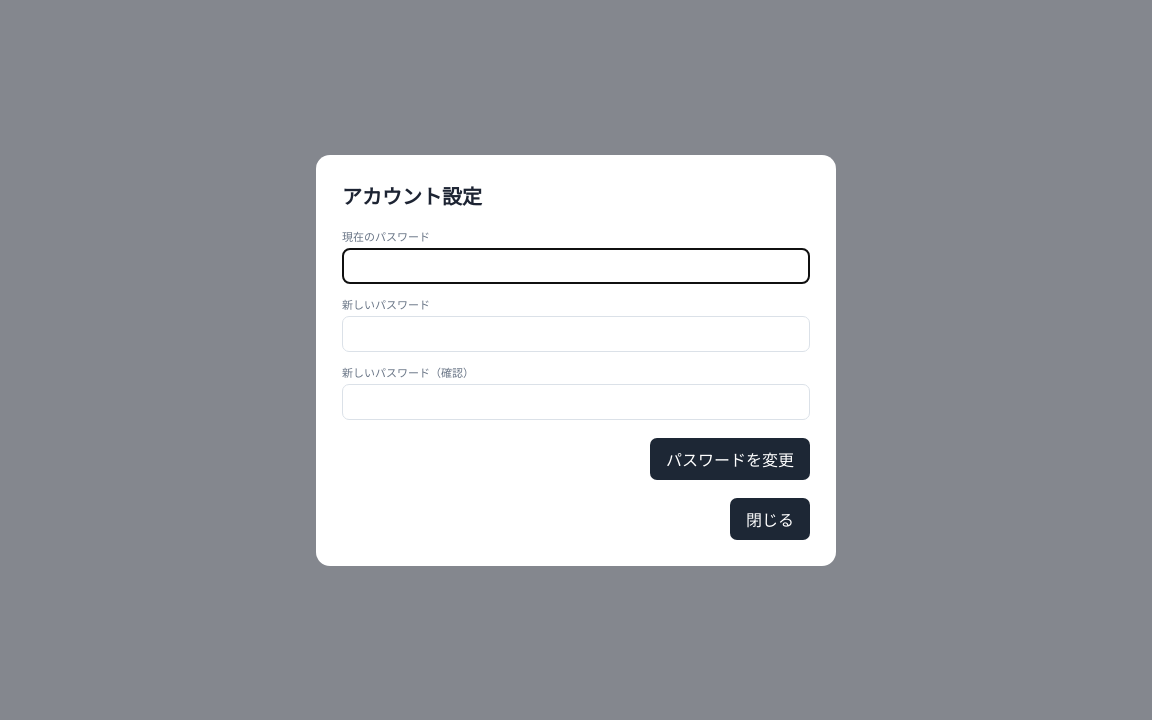
Test: AccountPanel › changes the password and shows the server's confirmation message
The image size is (1152, 720).
Type "old-pass" into the password field labelled "現在のパスワード" at {"x": 576, "y": 266}, box [342, 248, 810, 284]
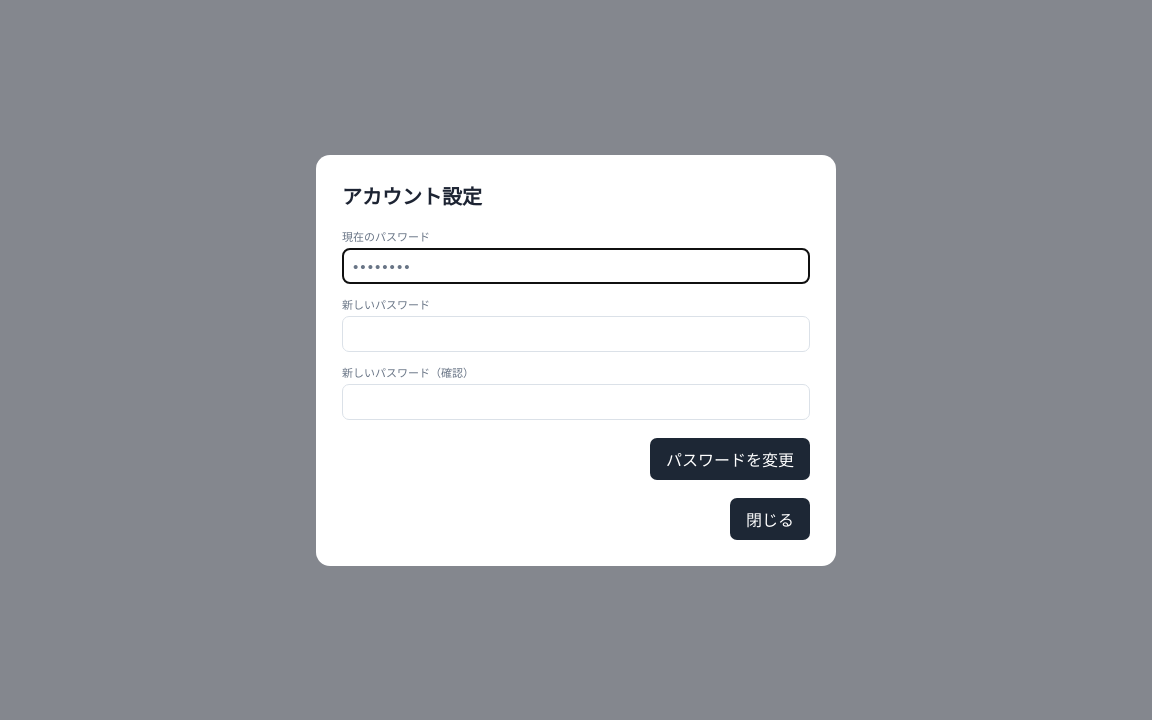
Type "new-pass" into the password field labelled "新しいパスワード" at {"x": 576, "y": 334}, box [342, 316, 810, 352]
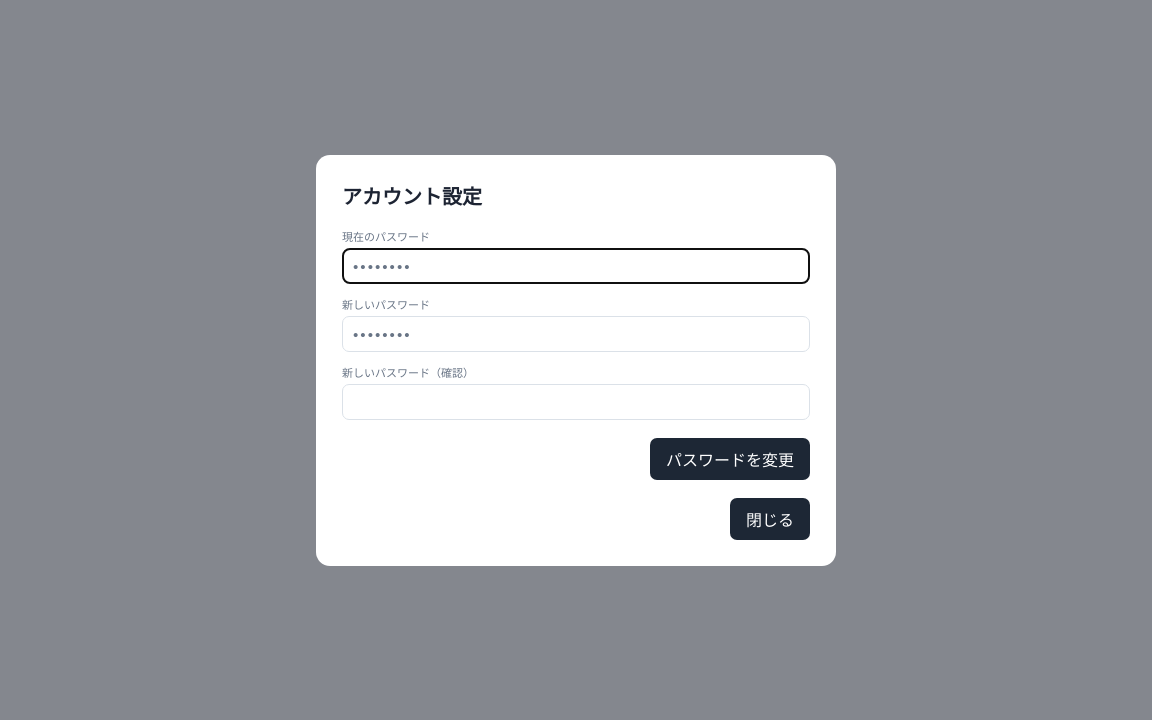
Type "new-pass" into the password field labelled "新しいパスワード（確認）" at {"x": 576, "y": 402}, box [342, 384, 810, 420]
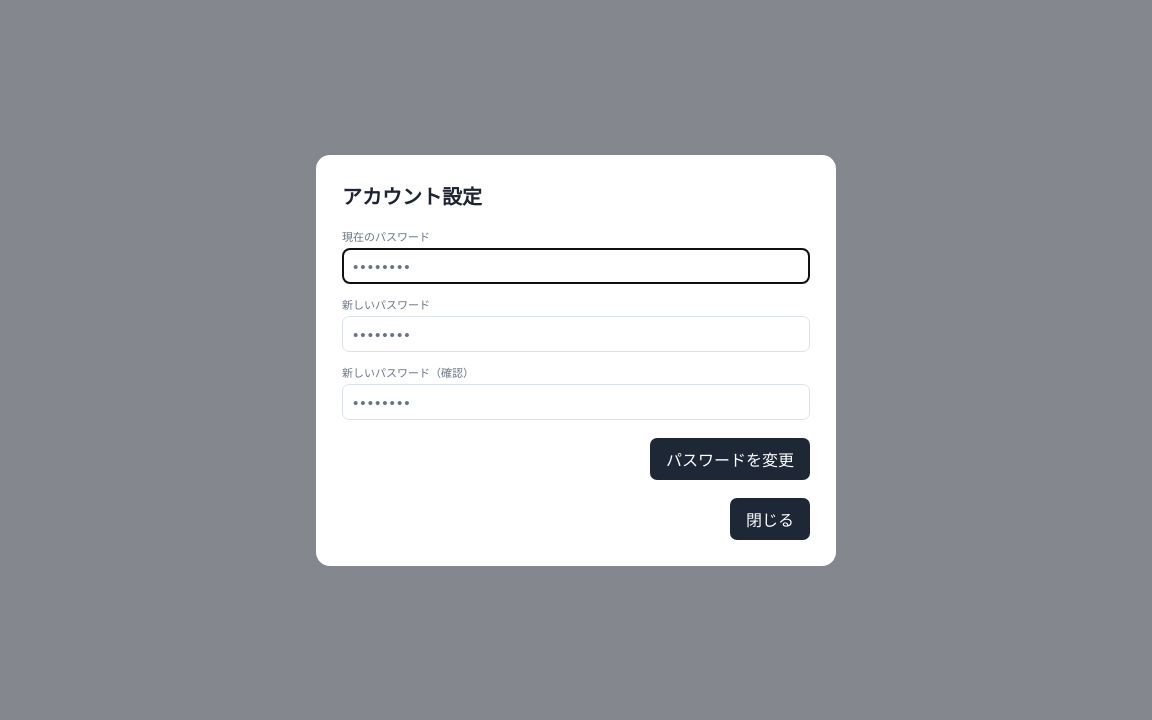
Click the button "パスワードを変更" at {"x": 730, "y": 458}, box [650, 438, 810, 480]
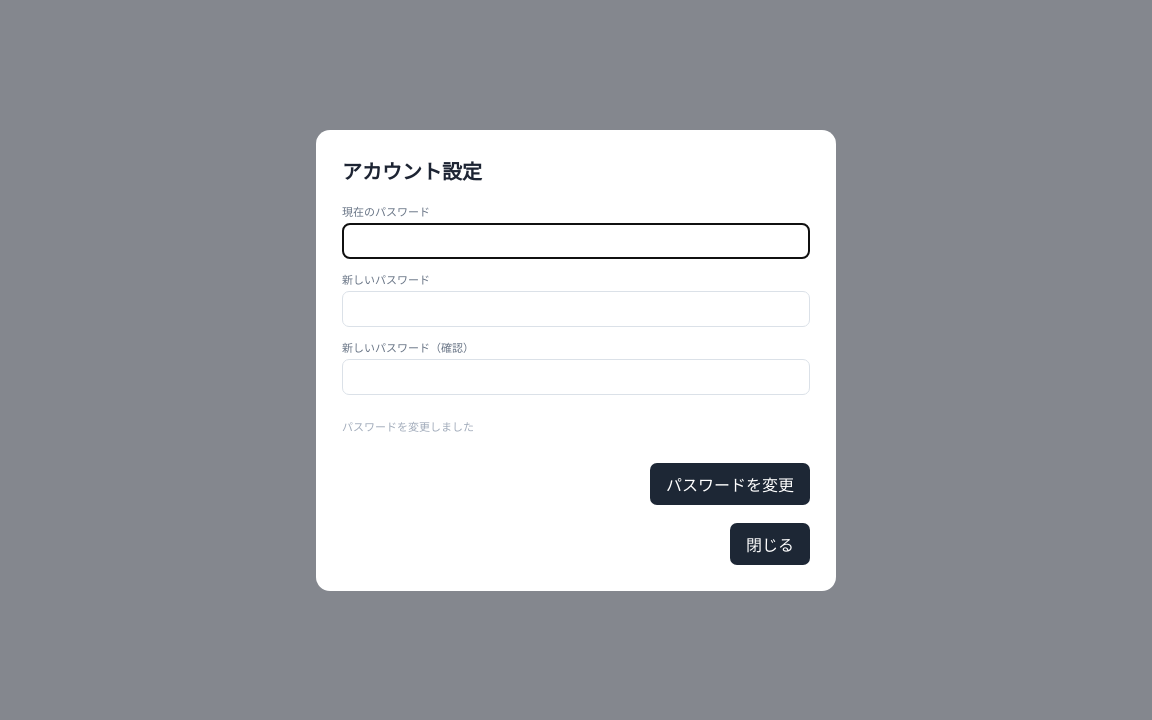
Check: the text "パスワードを変更しました" is shown, box [342, 420, 474, 434]
